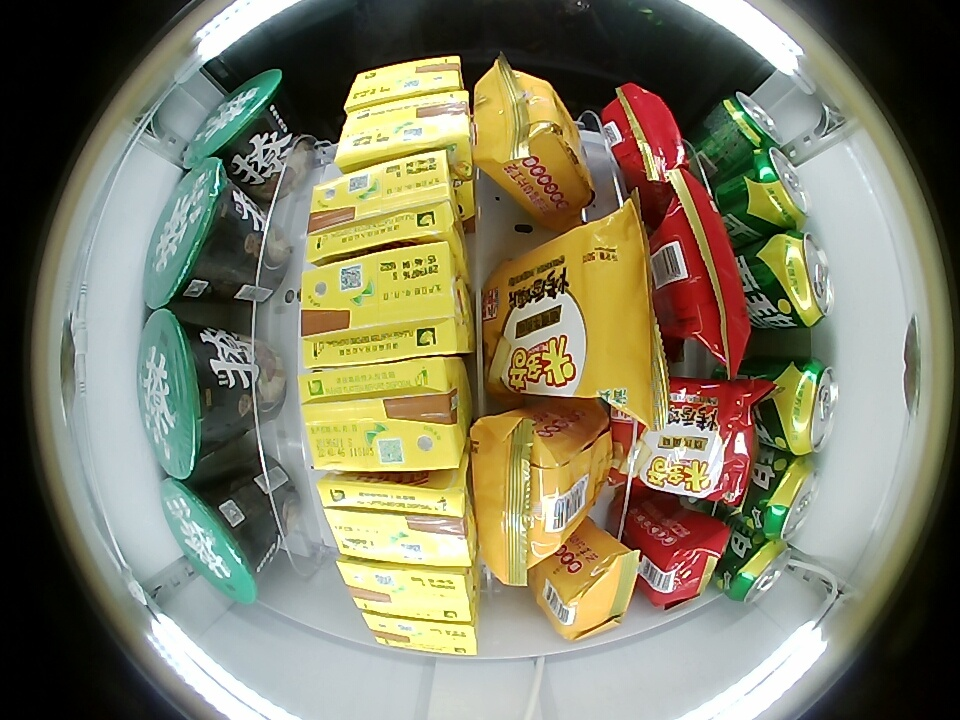kaomo_gali: (479, 226, 664, 397), (471, 400, 610, 570), (472, 66, 594, 220), (532, 525, 643, 638)
kaomo_shaokao: (627, 380, 755, 501), (647, 201, 749, 342), (628, 500, 731, 609), (601, 85, 685, 205)
liaomian: (139, 308, 236, 479), (143, 158, 237, 312), (161, 477, 264, 603), (187, 69, 287, 163)
weitaningmeng: (300, 243, 473, 368), (298, 355, 470, 472), (306, 148, 463, 262), (317, 472, 475, 565), (334, 91, 472, 169), (336, 554, 479, 621), (343, 55, 466, 114), (361, 611, 478, 656)
xuebi2: (744, 229, 835, 330), (767, 359, 840, 454), (740, 148, 812, 240), (748, 455, 821, 542), (720, 536, 789, 605), (717, 90, 781, 152)
